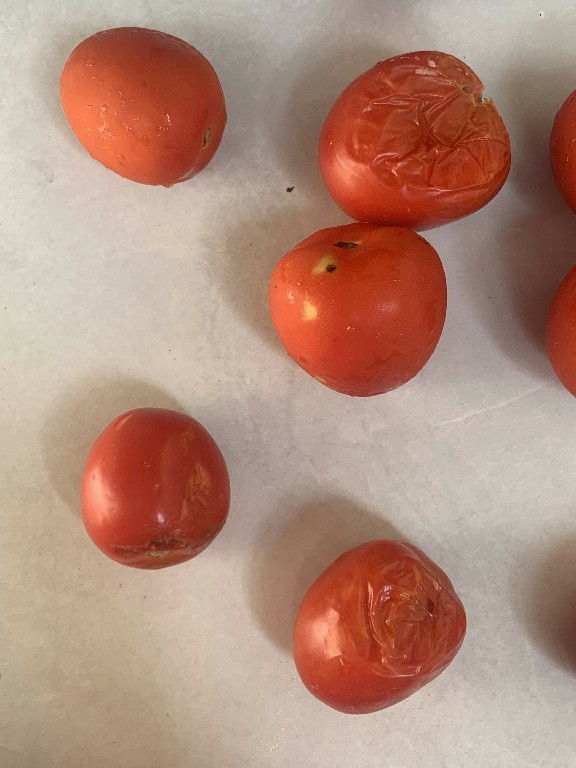NG: (311, 37, 517, 231), (279, 520, 469, 724), (264, 214, 450, 407), (72, 398, 244, 583)
OK: (48, 15, 250, 187)
